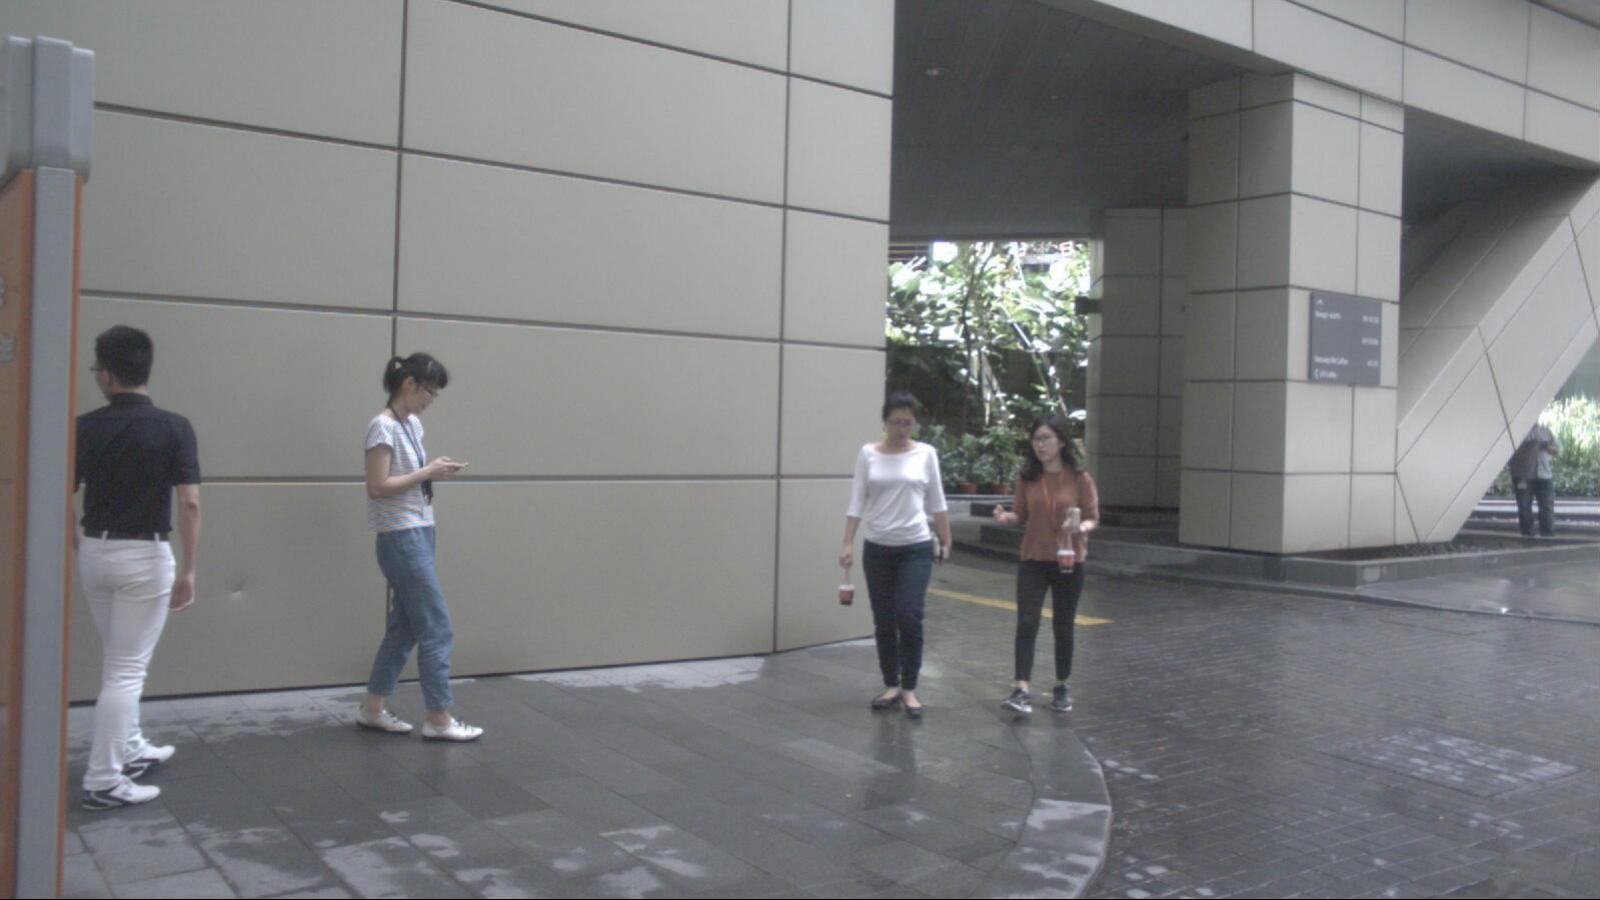human.pedestrian.adult-pedestrian.moving: (61, 326, 202, 814), (355, 353, 485, 750), (838, 393, 953, 718), (991, 414, 1099, 716)
human.pedestrian.adult-pedestrian.standing: (1508, 403, 1559, 546)
